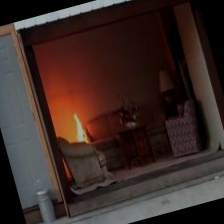fire: (62, 105, 95, 154)
